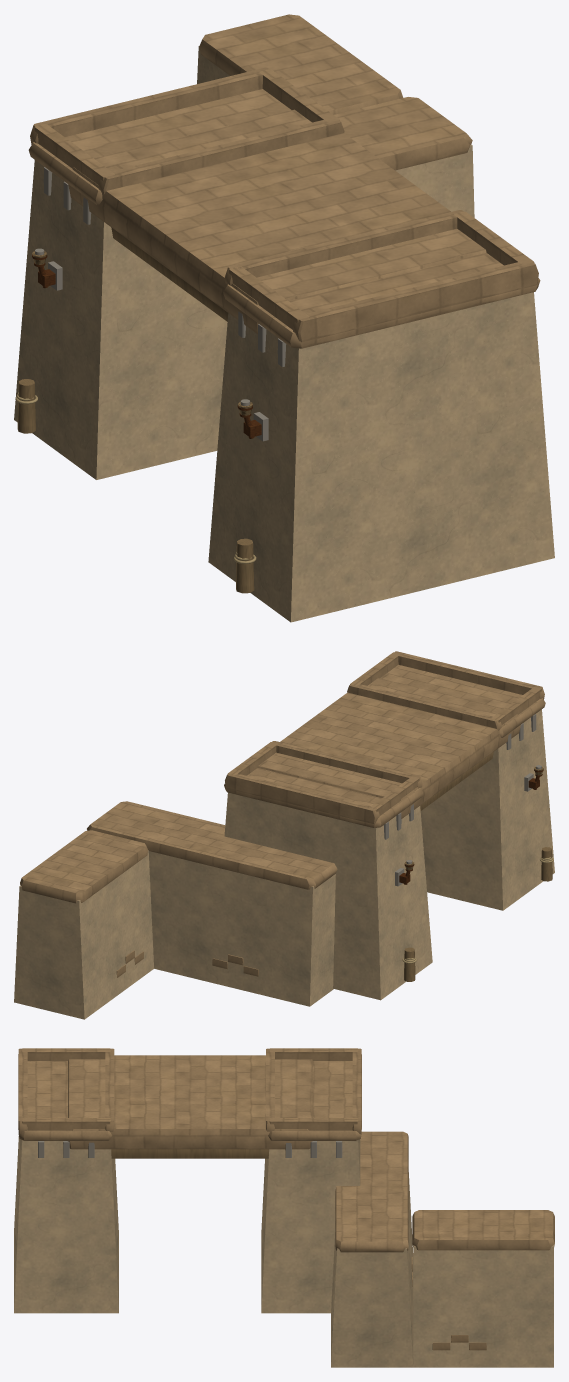
Rendered from cityGate.glb.
3 views of the same model, one above another, from view 1: azimuth 30°, elevation 25°; view 2: azimuth 150°, elevation 25°; view 3: azimuth 270°, elevation 25° (orthographic). The views are drawn at different scales.
Visible parts, largest first — view 1: 29,20-original-cityGate-warm-clay-plaster, 29,20-original-cityGate-game-raw-brick-facing, 29,20-original-cityGate-worn-timber, 29,20-original-cityGate-game-door-shadow; view 2: 29,20-original-cityGate-warm-clay-plaster, 29,20-original-cityGate-game-raw-brick-facing, 29,20-original-cityGate-worn-timber, 29,20-original-cityGate-game-door-shadow; view 3: 29,20-original-cityGate-warm-clay-plaster, 29,20-original-cityGate-game-raw-brick-facing, 29,20-original-cityGate-worn-timber, 29,20-original-cityGate-game-door-shadow.
Part boxes in pixels (left/top/right/bottom): 29,20-original-cityGate-warm-clay-plaster: left=14, top=46, right=554, bottom=622; 29,20-original-cityGate-game-raw-brick-facing: left=28, top=14, right=540, bottom=348; 29,20-original-cityGate-worn-timber: left=17, top=227, right=254, bottom=593; 29,20-original-cityGate-game-door-shadow: left=43, top=167, right=286, bottom=366; 29,20-original-cityGate-warm-clay-plaster: left=14, top=709, right=554, bottom=1019; 29,20-original-cityGate-game-raw-brick-facing: left=20, top=651, right=545, bottom=977; 29,20-original-cityGate-worn-timber: left=404, top=752, right=552, bottom=981; 29,20-original-cityGate-game-door-shadow: left=383, top=714, right=536, bottom=839; 29,20-original-cityGate-warm-clay-plaster: left=14, top=1136, right=553, bottom=1367; 29,20-original-cityGate-game-raw-brick-facing: left=18, top=1048, right=554, bottom=1350; 29,20-original-cityGate-worn-timber: left=111, top=1149, right=268, bottom=1158; 29,20-original-cityGate-game-door-shadow: left=38, top=1141, right=342, bottom=1157.
Bounding box in the file's own units: 5.63 × 3.43 × 8.92.
7 materials, 6 textured.
